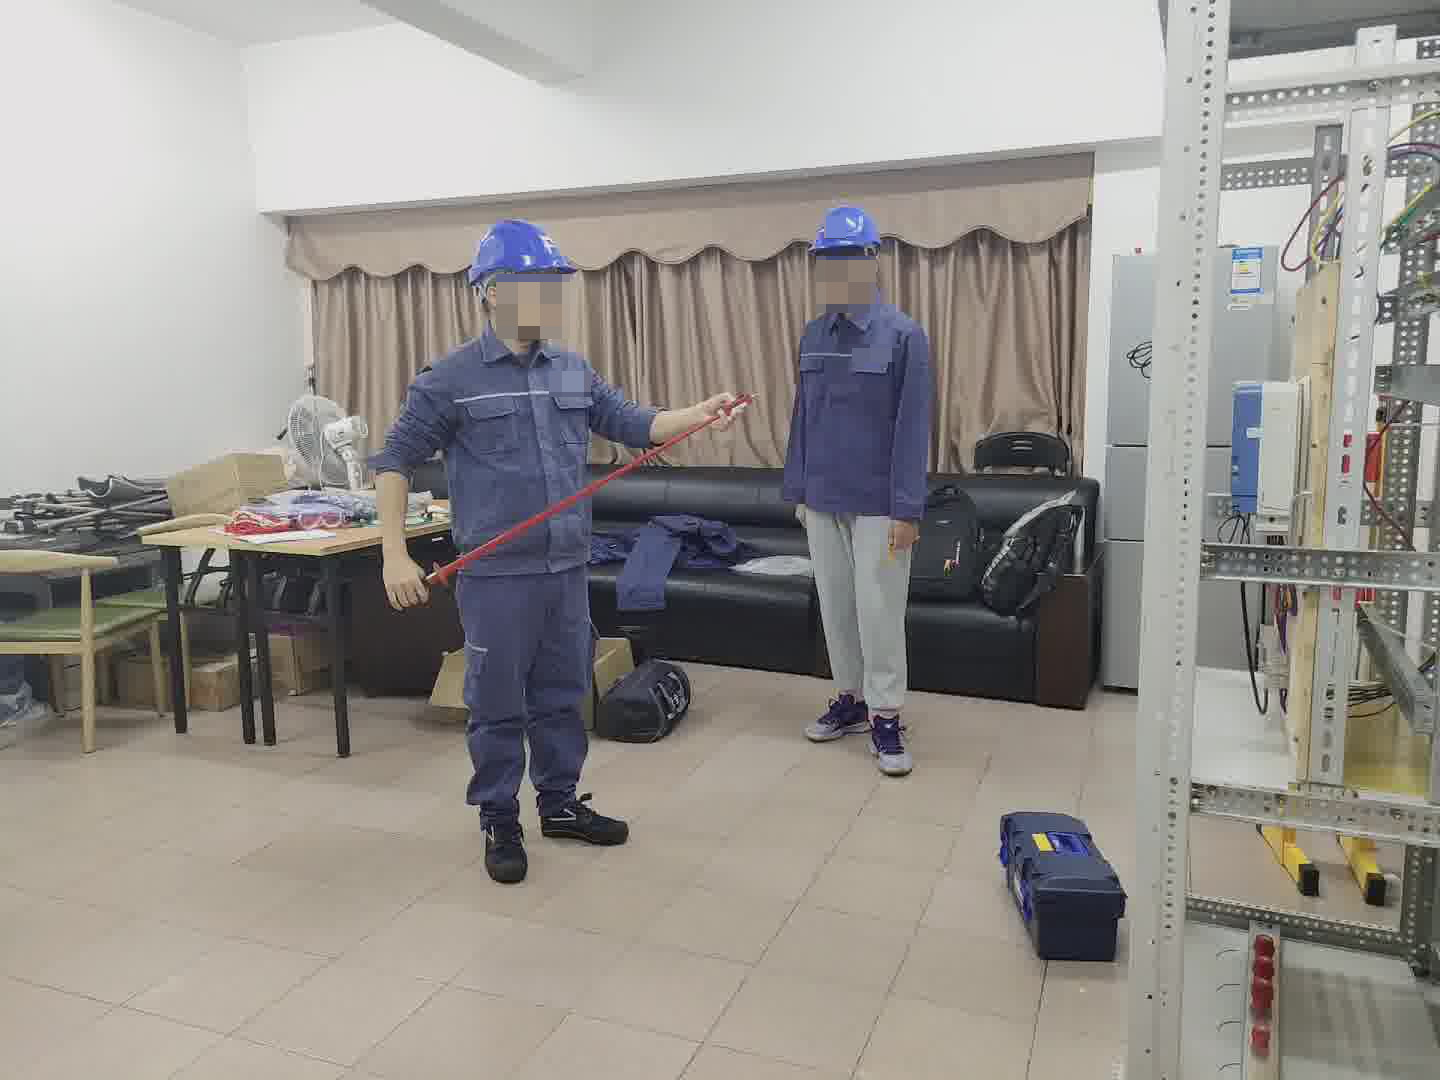downcloth: (796, 527, 913, 707)
downsuit: (458, 592, 596, 825)
halt: (465, 218, 580, 342), (807, 203, 889, 302)
hand: (382, 561, 428, 615), (880, 515, 924, 557), (700, 394, 741, 433), (786, 493, 809, 535)
inear: (477, 278, 522, 319), (860, 250, 889, 294)
person: (368, 217, 659, 867), (778, 201, 939, 766)
testrod: (392, 389, 752, 585)
upsuit: (370, 330, 658, 584), (783, 296, 936, 515)
wrongtop: (357, 474, 424, 579), (637, 394, 712, 449)
